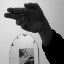h: (2, 2, 46, 32)
